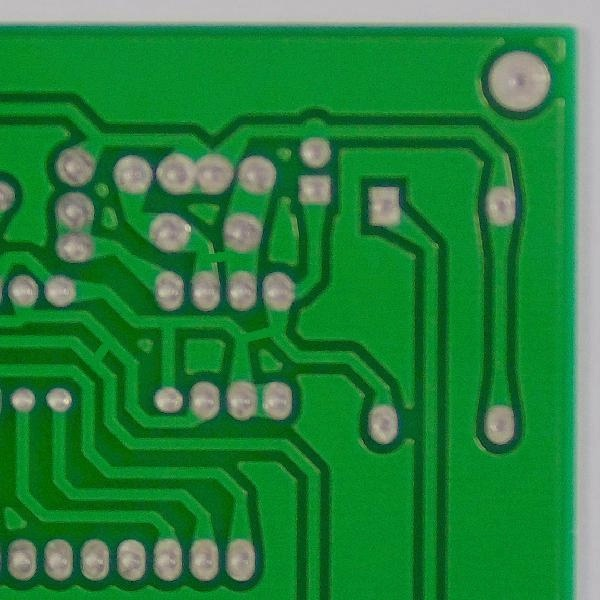short: (227, 319, 292, 359), (190, 236, 242, 277), (77, 331, 125, 372)
